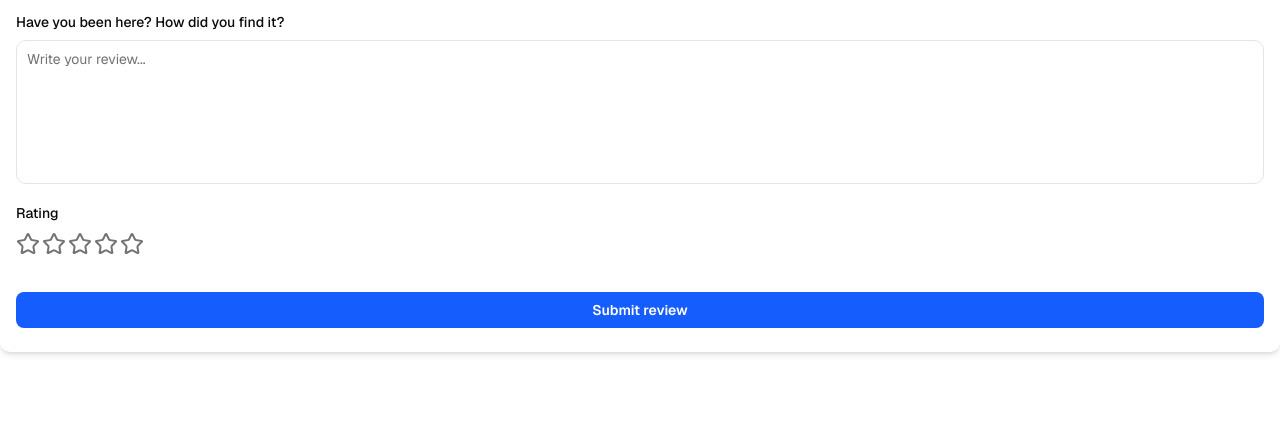
Test: ReviewForm › clears the rating error once a star is selected
Click the button "Submit review" at (640, 310), box [16,292,1264,328]
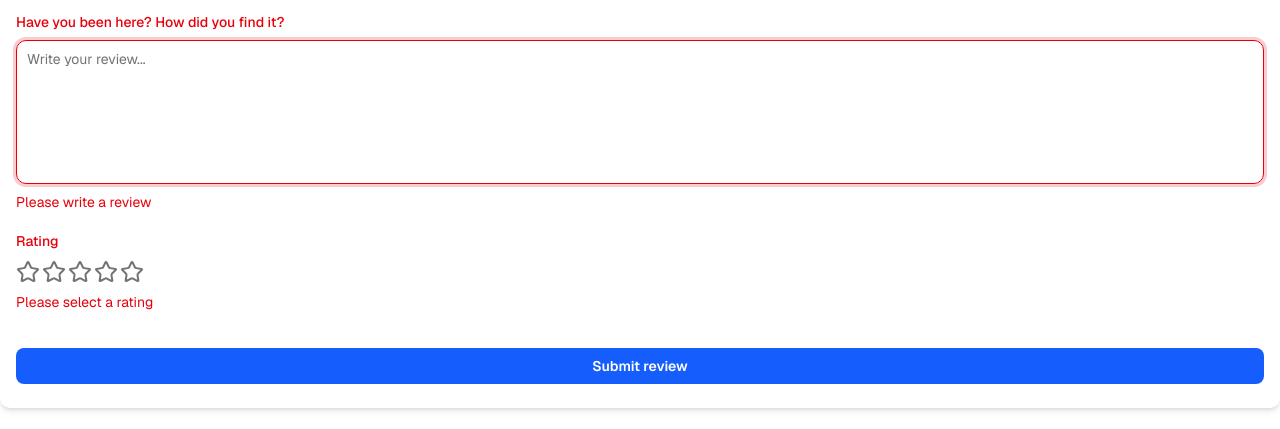
Check: the text "Please select a rating" is shown, box [16,292,153,310]
Click the 4th button at (106, 272), box [94,260,118,284]
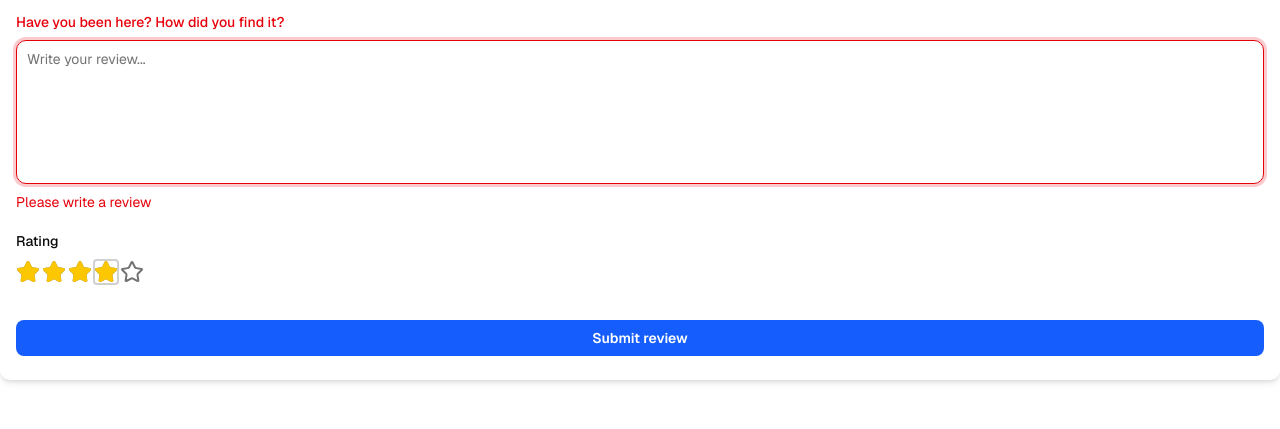
Check: the text "Please select a rating" is gone
